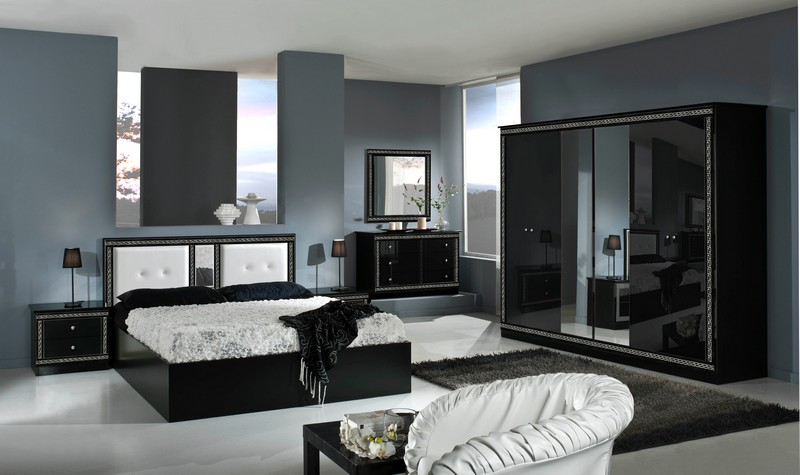bed: (103, 236, 413, 409)
chair: (411, 374, 630, 473)
lamp: (60, 245, 87, 309), (328, 236, 350, 296)
stool: (358, 229, 461, 297), (27, 302, 118, 375)
